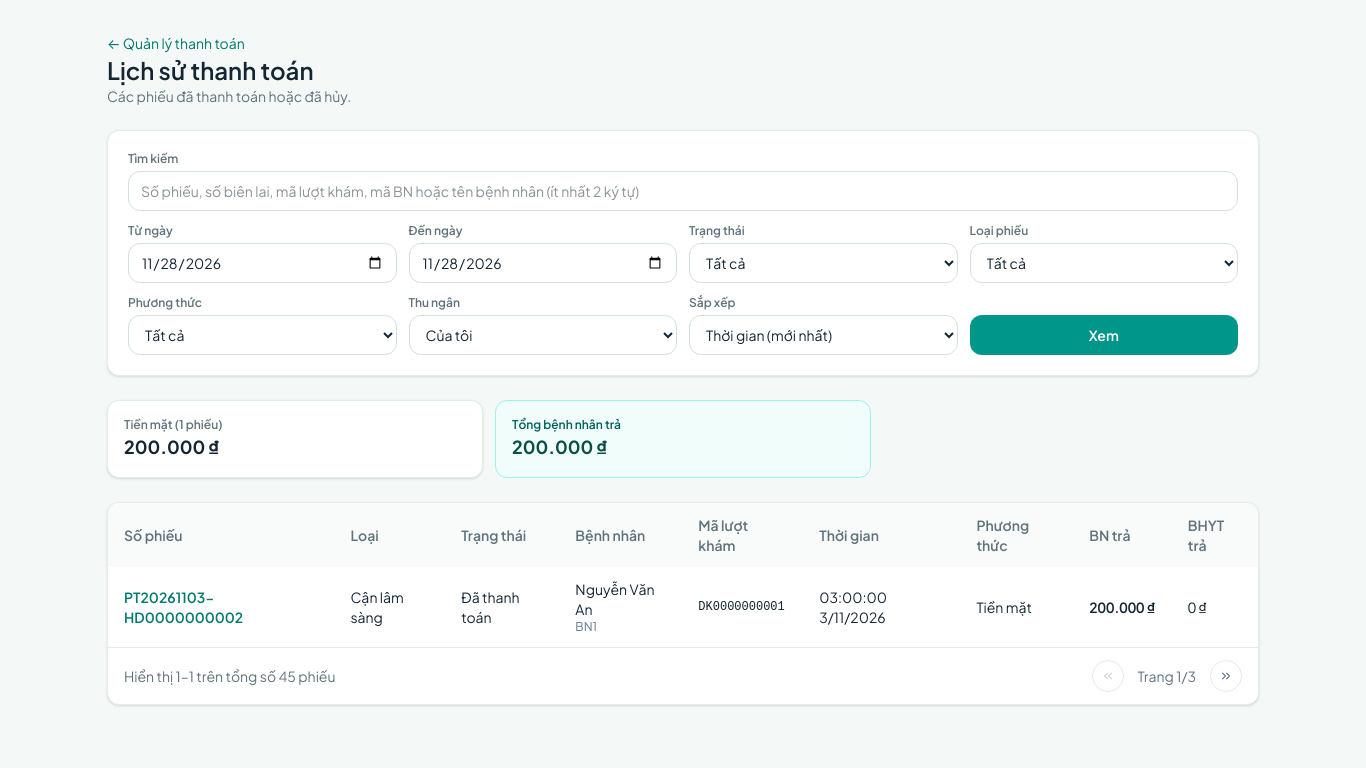
Test: paymentSearch (UC-70) › searches and pages through the history, keeping the filters on every page
This screenshot has width=1366, height=768.
Expected: the text "Trang 1/3" is shown, [1138,667,1196,685]
In the search field labelled "Tìm kiếm": x=683, y=191 [128,171,1238,211], type "binh"
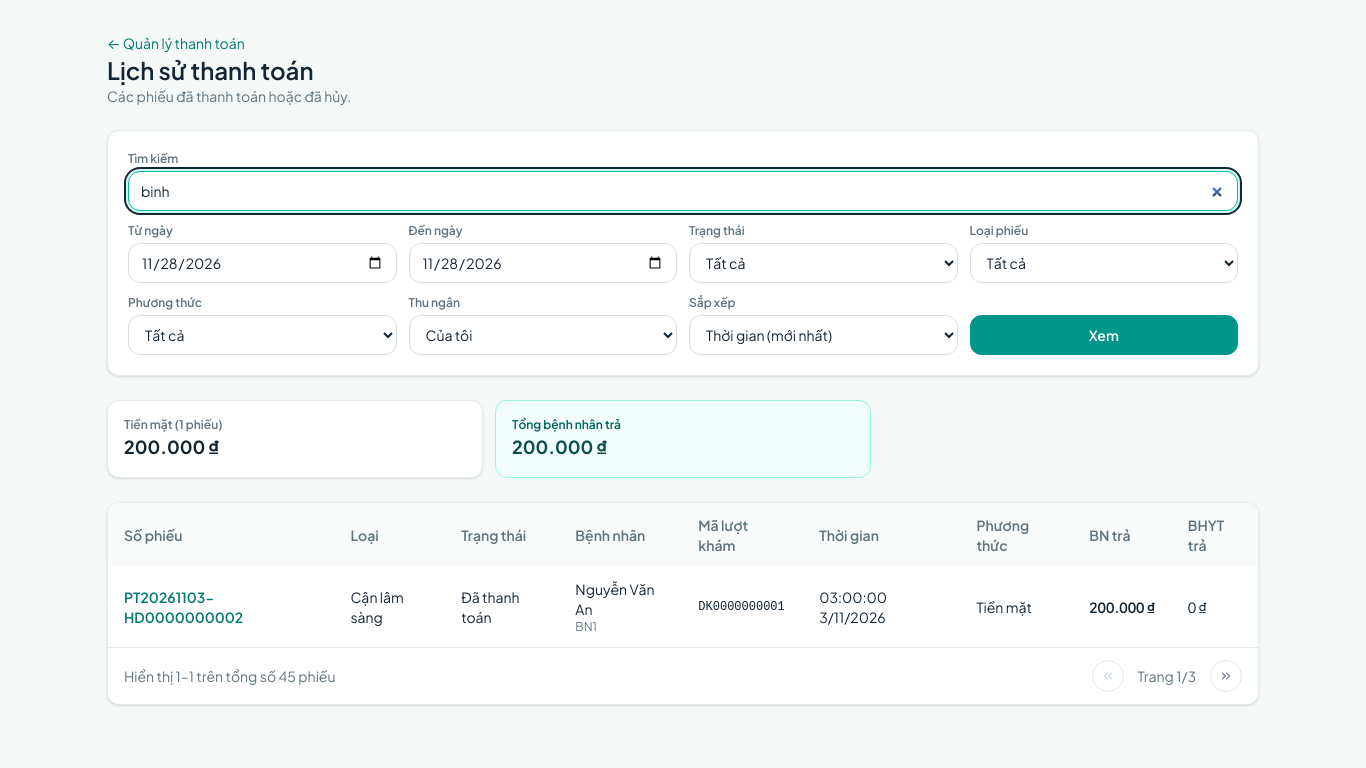
Click the button "Xem": x=1104, y=335 [970,315,1238,355]
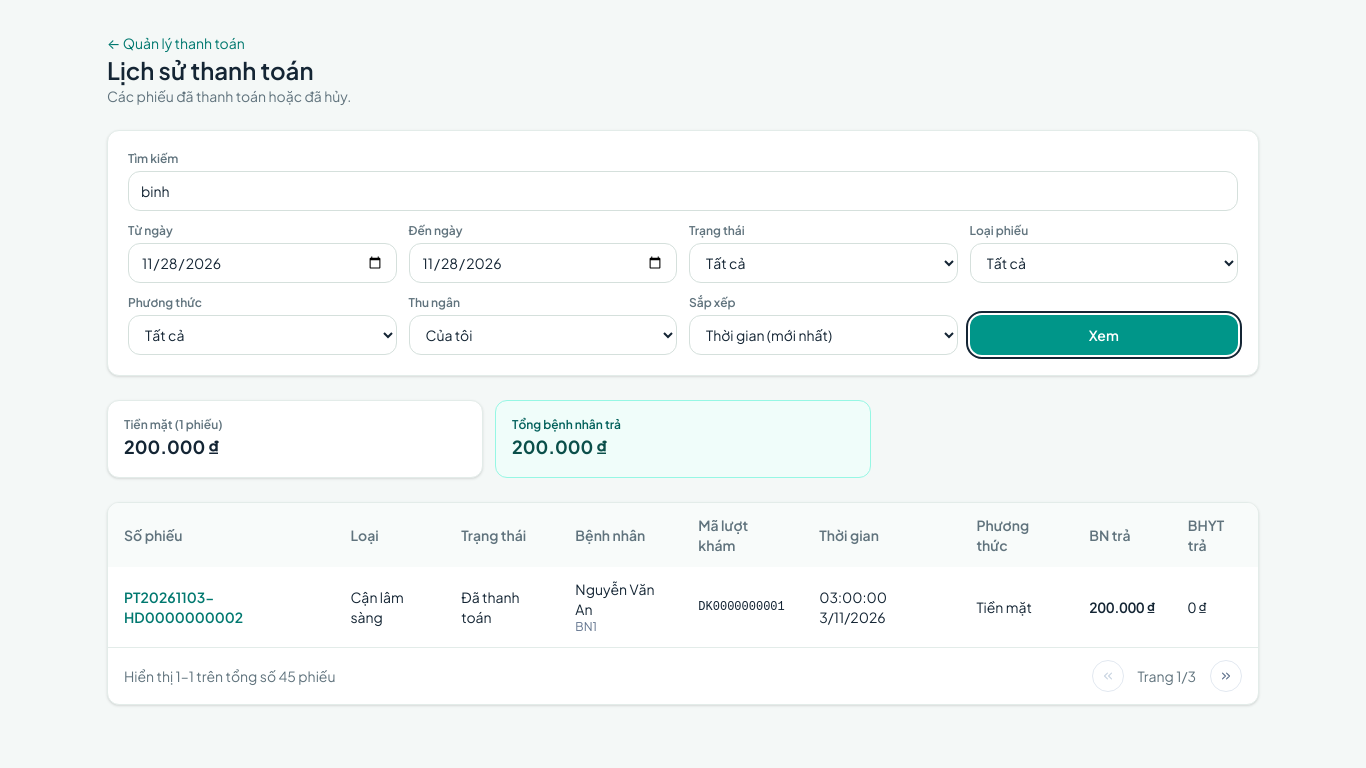
Click the button named "Trang sau": x=1226, y=676 [1210,660,1242,692]
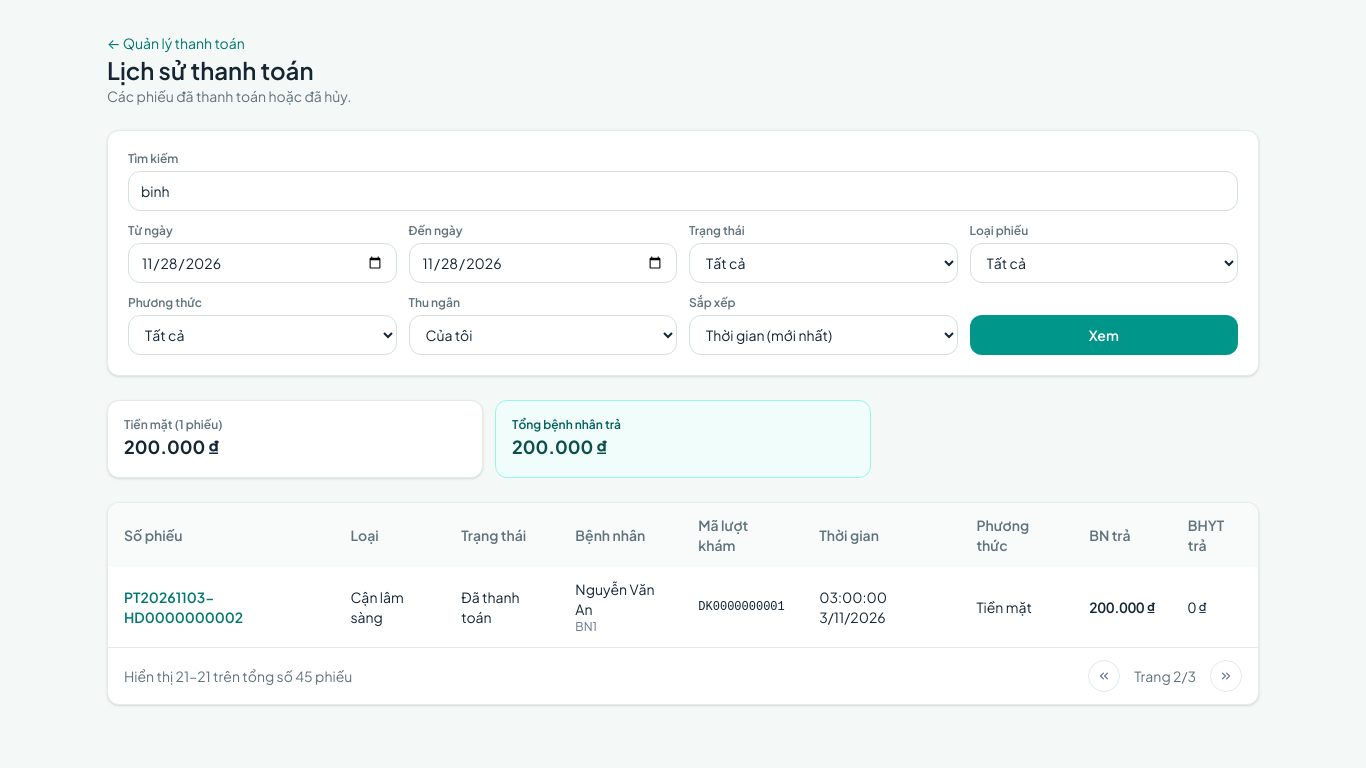
Expected: the text "Trang 2/3" is shown, [1134,667,1196,685]
